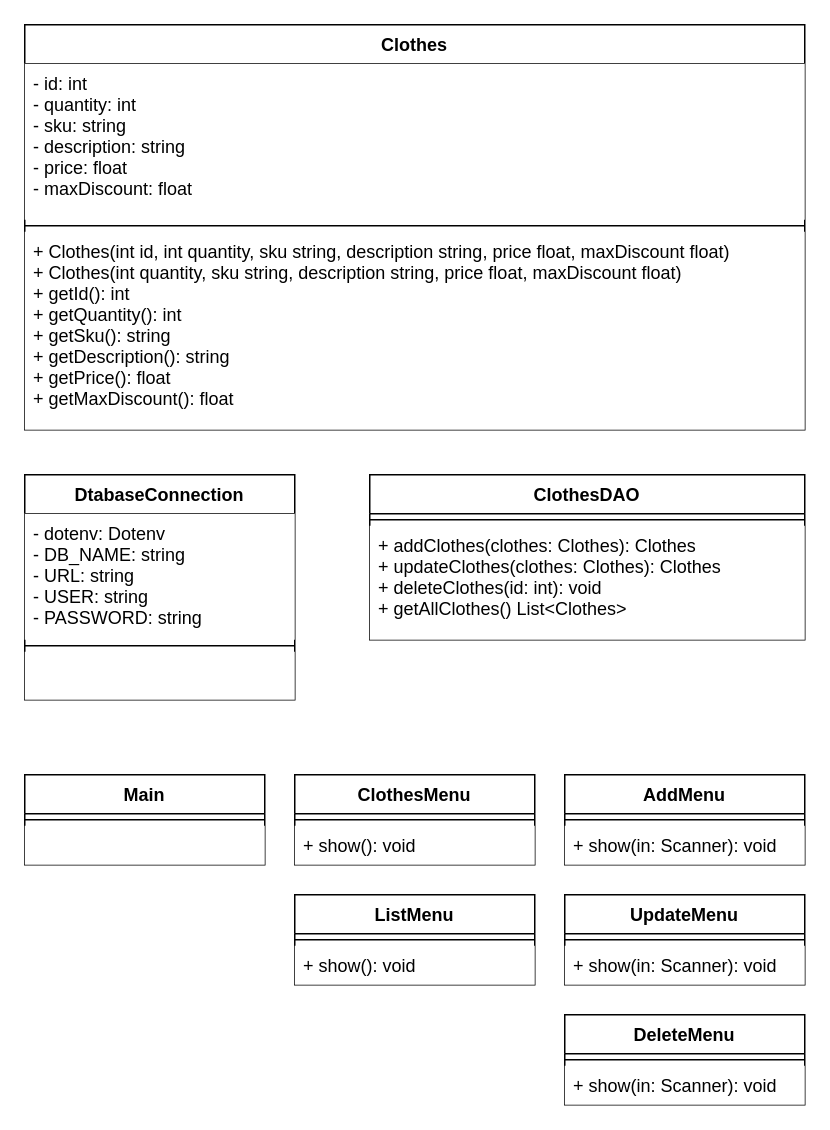
Some shapes in this 830 by 1130 pixel diagram are drawn without their labels. The shapes that lost their labels are listed below. From the top down, each one's centre as x and y in pixels, then its label:
At (159,675): "+ getConnection: Connection".
At (144,844): "+ main(args: String[]) void".
